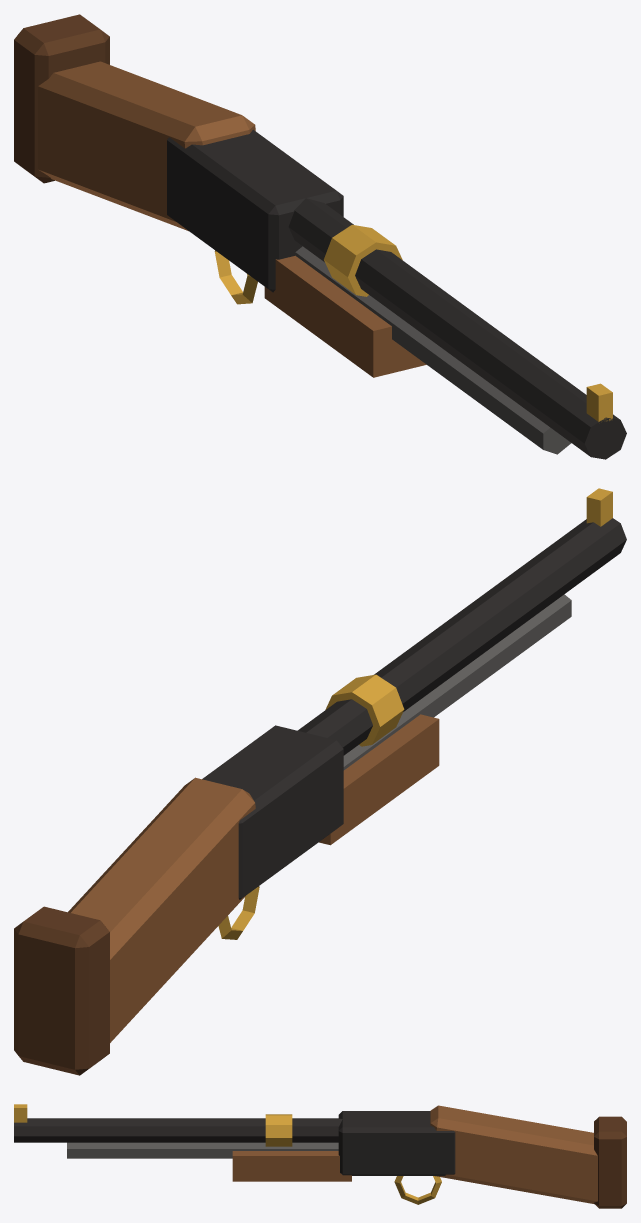
The model's file is BullwormRifle.fbx.
3 views of the same model, one above another, from view 1: azimuth 30°, elevation 25°; view 2: azimuth 150°, elevation 25°; view 3: azimuth 270°, elevation 25° (orthographic). The views are drawn at different scales.
Parts seen in each view (by area): view 1: BullwormRifle; view 2: BullwormRifle; view 3: BullwormRifle.
Boxes of the visible parts, x1=… form: BullwormRifle: x1=14, y1=14, x2=626, y2=459; BullwormRifle: x1=14, y1=488, x2=626, y2=1075; BullwormRifle: x1=14, y1=1104, x2=626, y2=1208.
Size of the model in its own units: 0.35 by 0.8 by 4.5.
